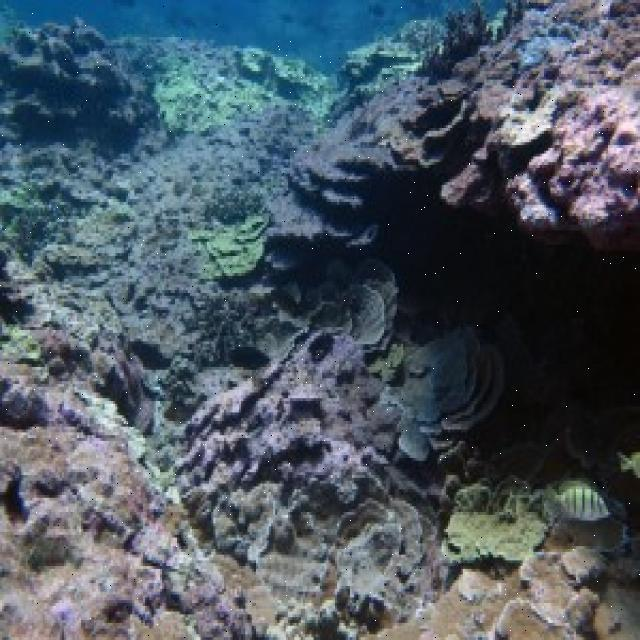Bleached: (516, 95, 640, 207)
Healthy: (199, 112, 402, 243), (1, 25, 169, 143)
